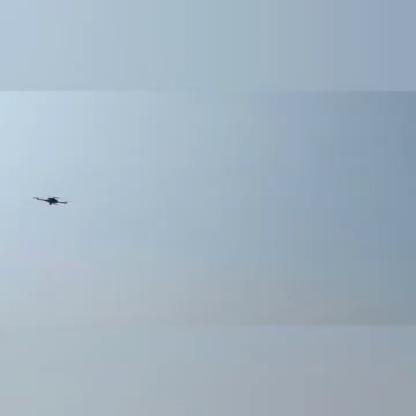drone: (29, 192, 76, 209)
